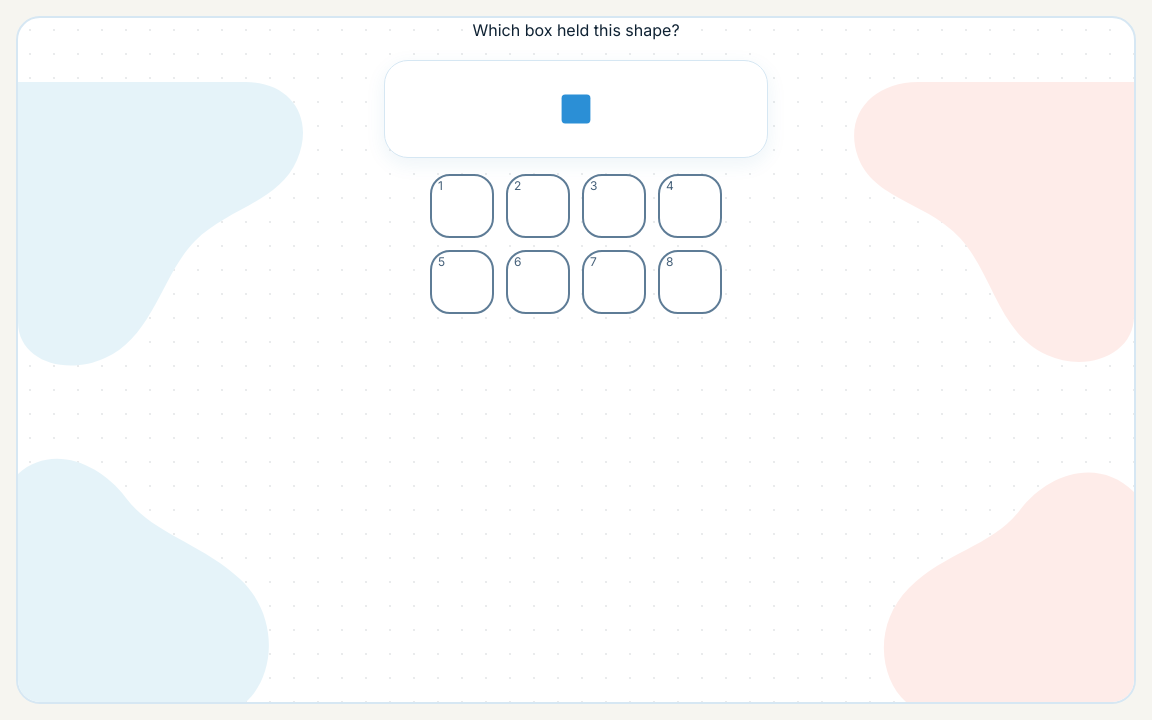
Test case: Pair Finder › a retry that is all right moves on to the next stage
Press the mouse on the button named "Box 1" at (462,206), box [430,174,494,238]
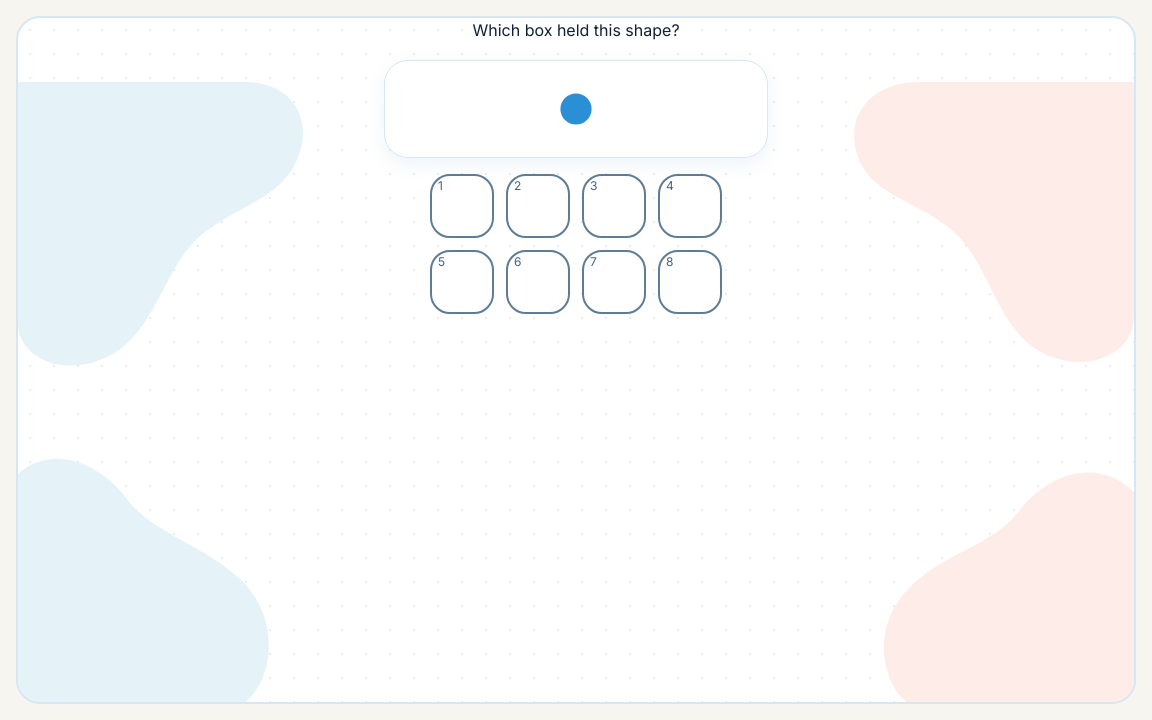
Press the mouse on the button "3" at (614,206), box [582,174,646,238]
Wait 2000 ms
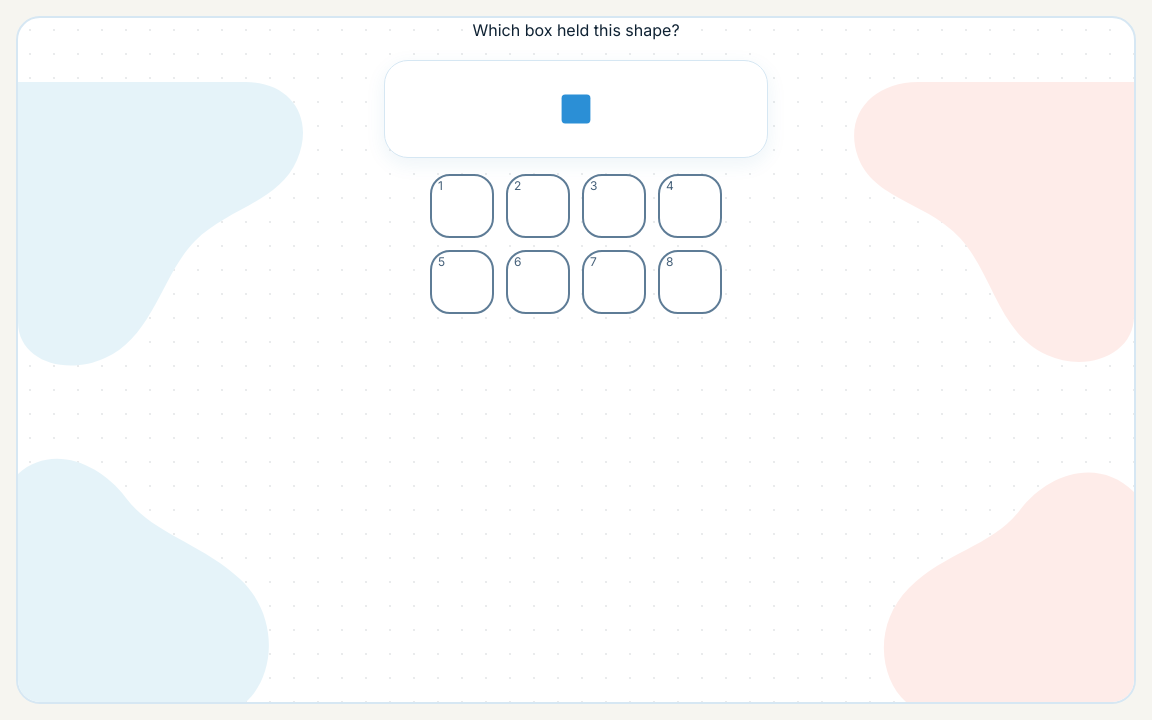
Press the mouse on the button "6" at (538,282), box [506,250,570,314]
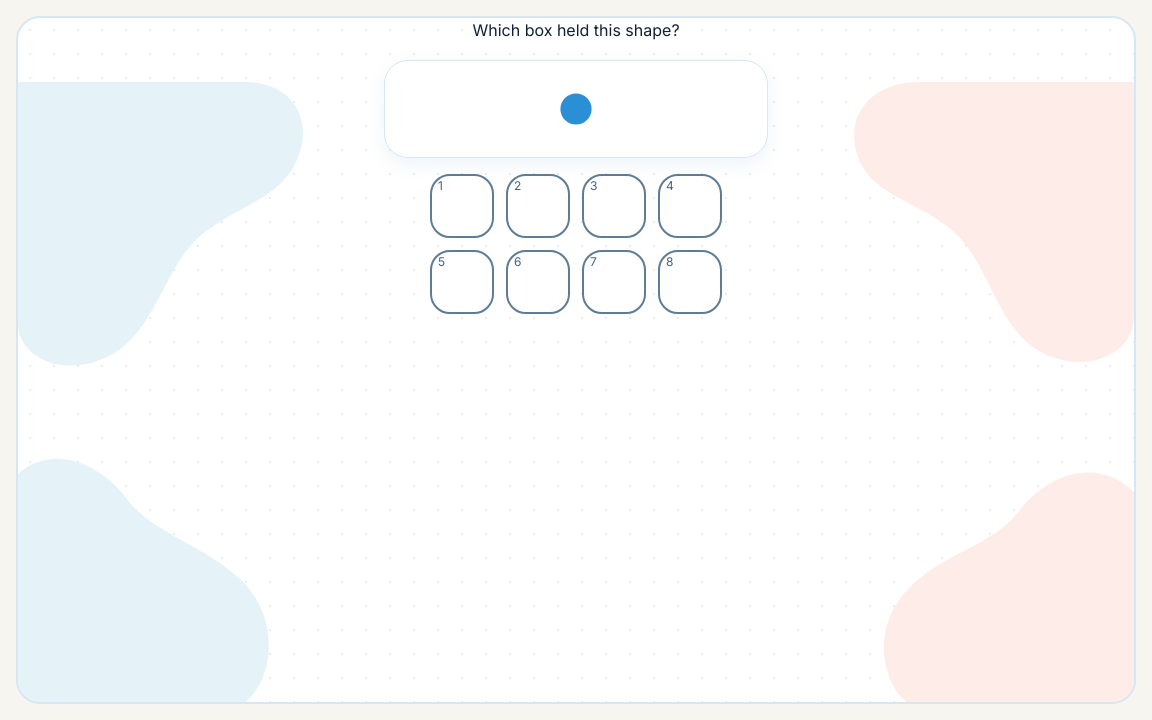
Press the mouse on the button "3" at (614,206), box [582,174,646,238]
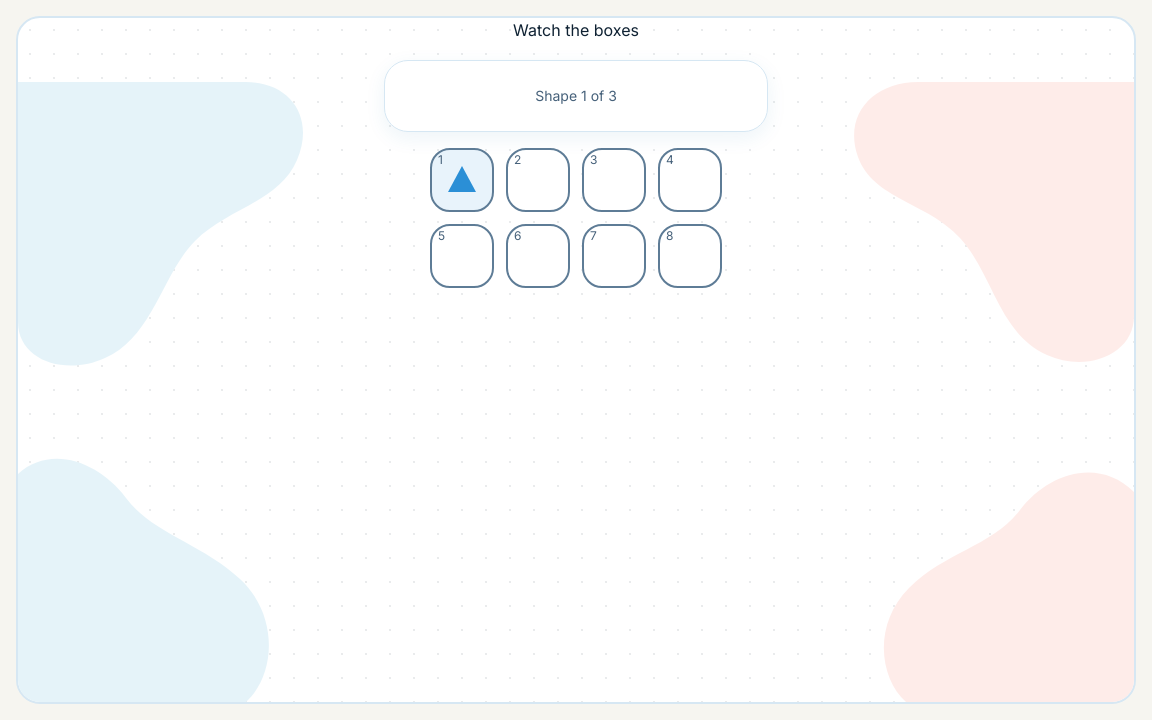
Check: the text "Watch the boxes" is shown, box [513,18,639,44]
